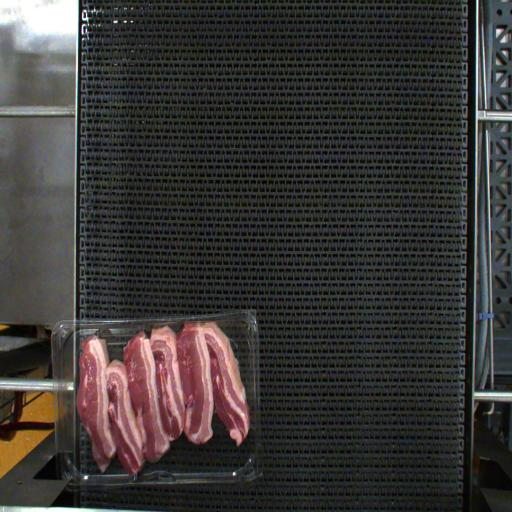packaging-error: (135, 321, 148, 333), (152, 322, 168, 330)
